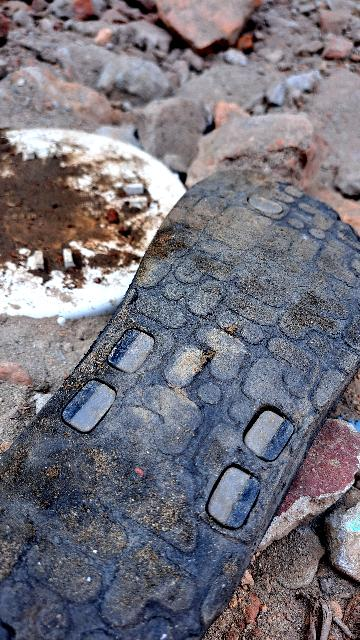sandal: (0, 138, 360, 640)
